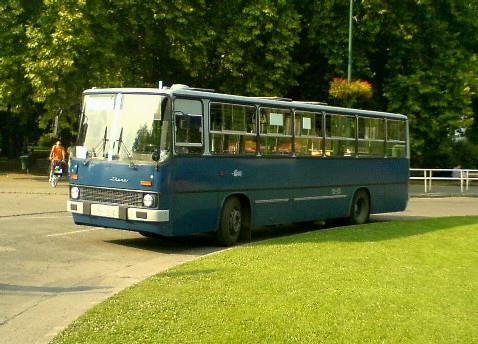bus: (64, 83, 410, 248)
car: (49, 159, 67, 188)
person: (49, 141, 67, 182)
